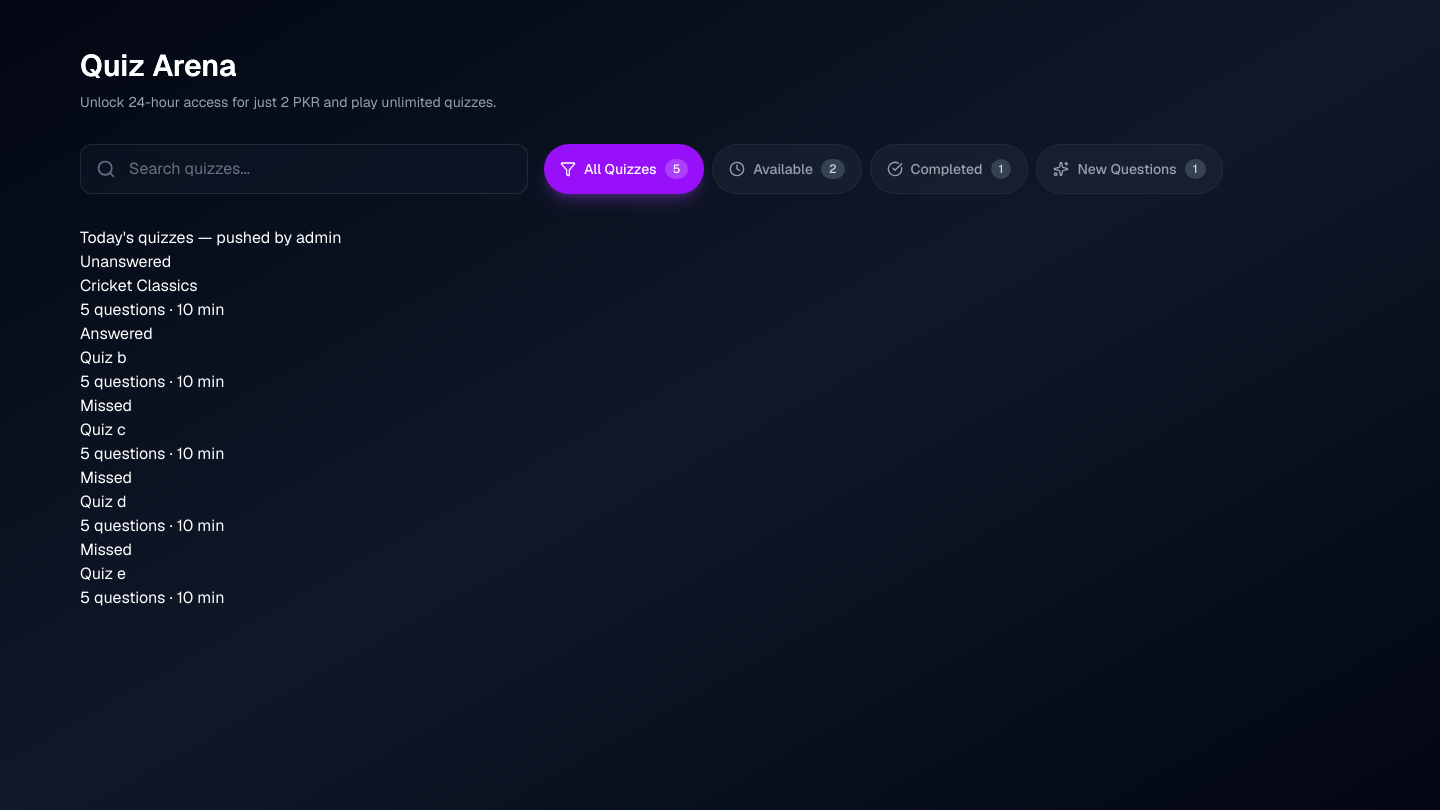
Test case: quizzes page: access and payment › defaults a missing balance and price
Click the text "Cricket Classics".
click(152, 286)  # box [80,251,224,320]
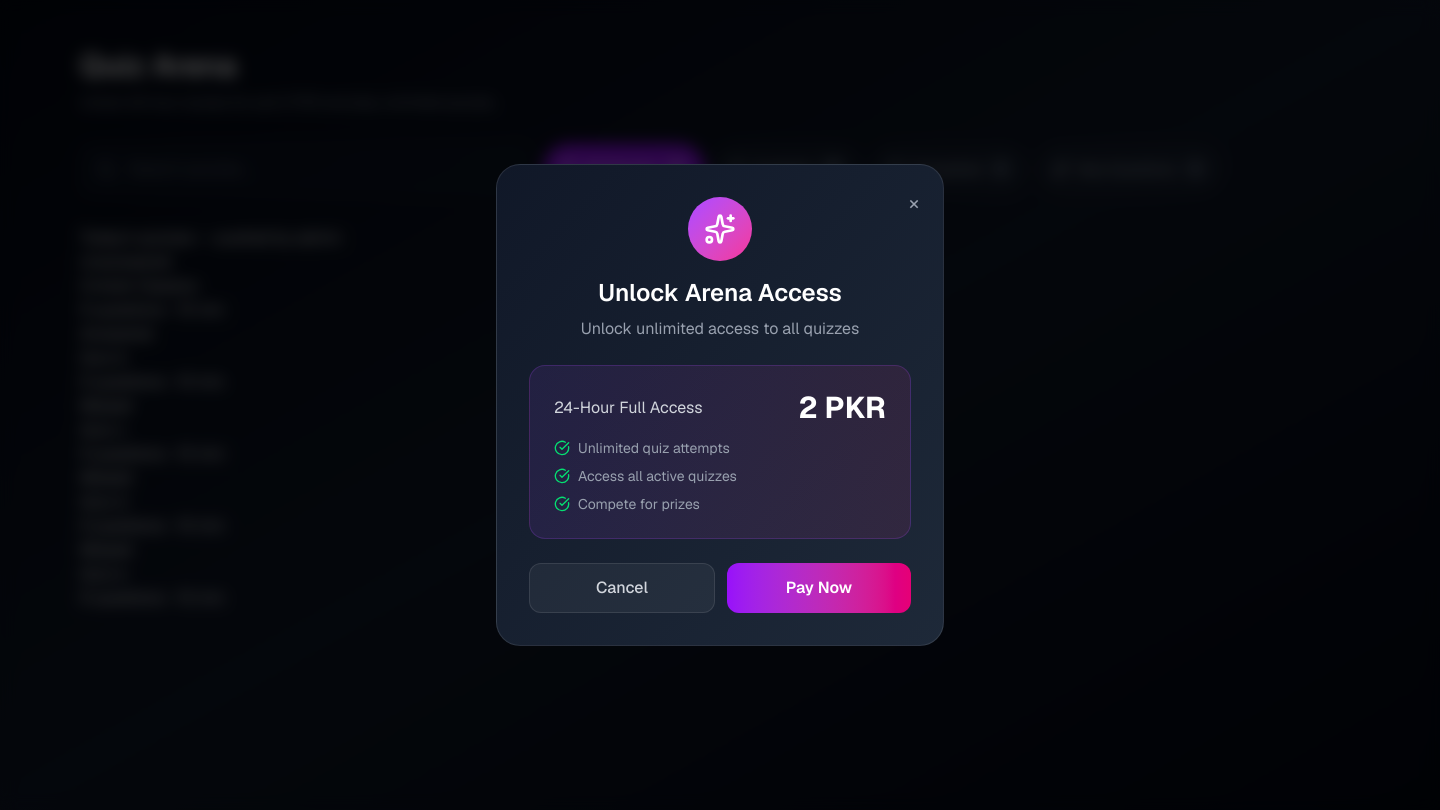
Click the button "Pay Now".
click(819, 588)  # box [727,563,911,613]
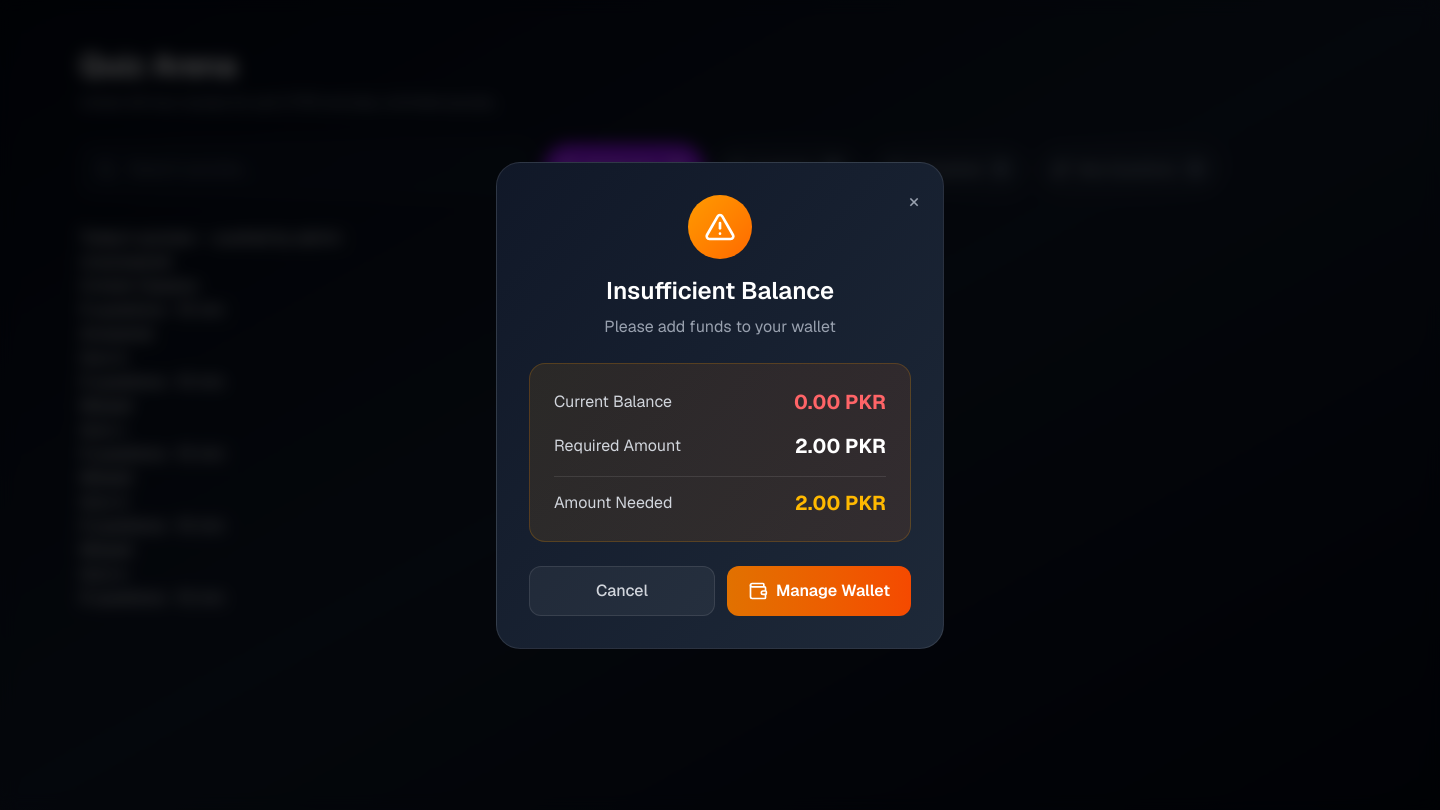
Now the heading "Insufficient Balance" is shown, box [606,274,834,306]
Now the text "2.00 PKR" next to "Required Amount" is shown, box [795,432,886,460]
